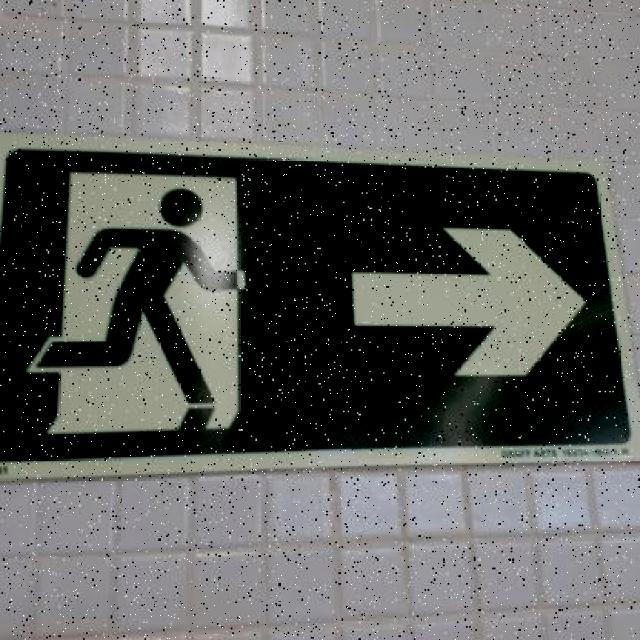emergency_exit: (1, 146, 637, 478)
